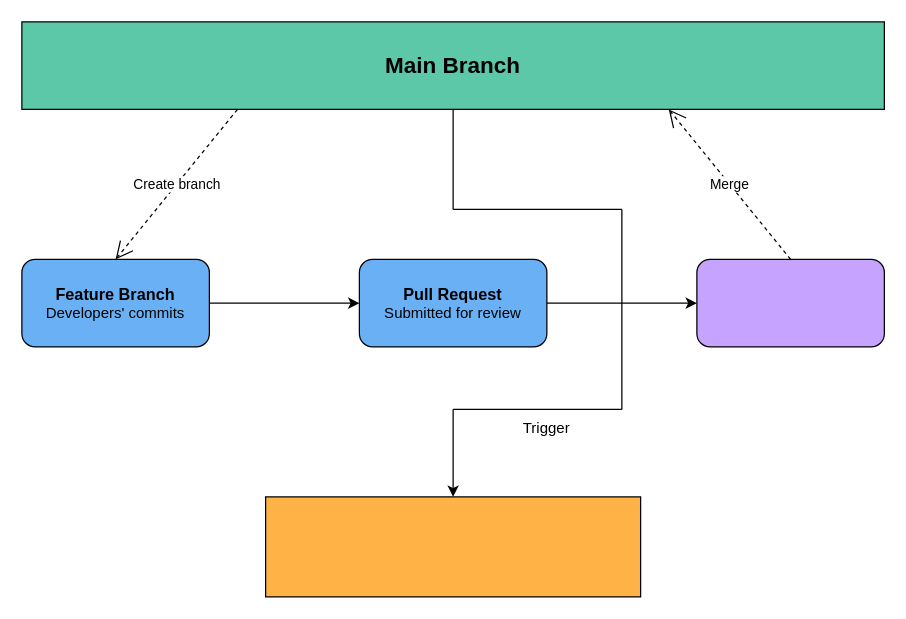
Some shapes in this 906 by 619 pixel diagram are drawn without their labels. Each missing label, with the centre of its shape:
CI/CD Pipeline Triggered Build, test, deploy: point (452, 546)
Peer Review Code approved: point (790, 302)
